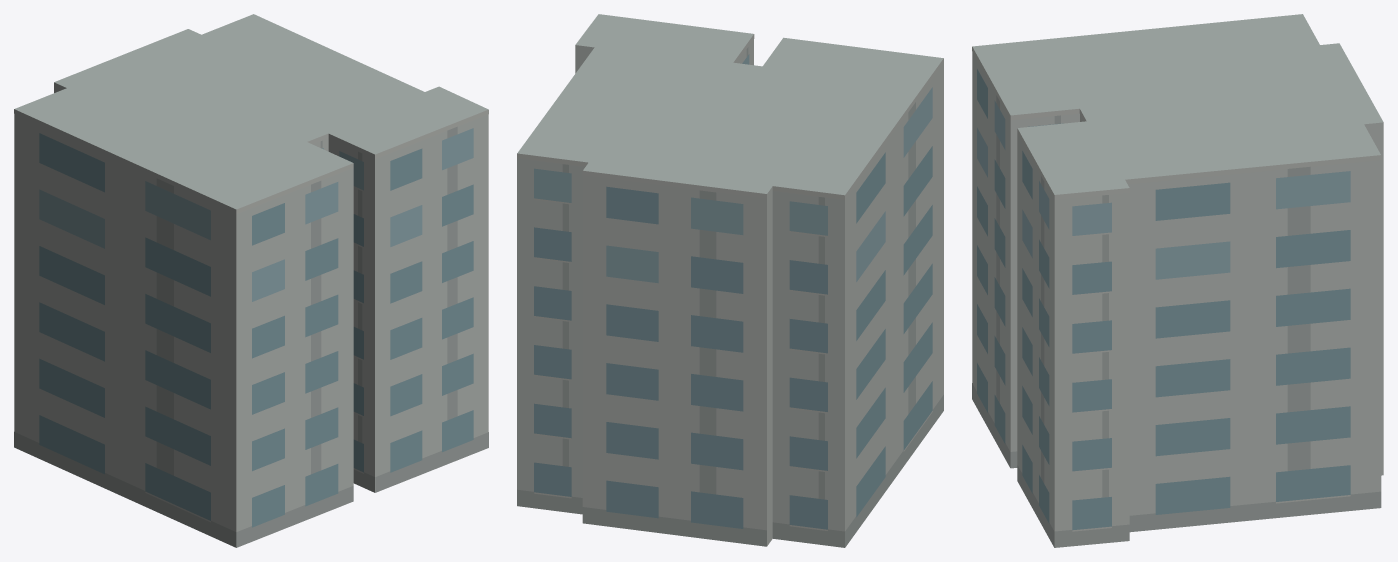
The model's file is survey-upis-33003517.glb.
3 renders of one model, left to right at view 1: azimuth 30°, elevation 25°; view 2: azimuth 150°, elevation 25°; view 3: azimuth 270°, elevation 25°, orthographic. The views are drawn at different scales.
Parts seen in each view (by area): view 1: survey-upis-33003517.tmp; view 2: survey-upis-33003517.tmp; view 3: survey-upis-33003517.tmp.
Boxes of the visible parts, x1,y1,x2,y2 form: survey-upis-33003517.tmp: (14, 14, 488, 547); survey-upis-33003517.tmp: (517, 14, 943, 547); survey-upis-33003517.tmp: (972, 14, 1383, 547).
Size of the model in its own units: 19.36 by 17.6 by 18.61.
